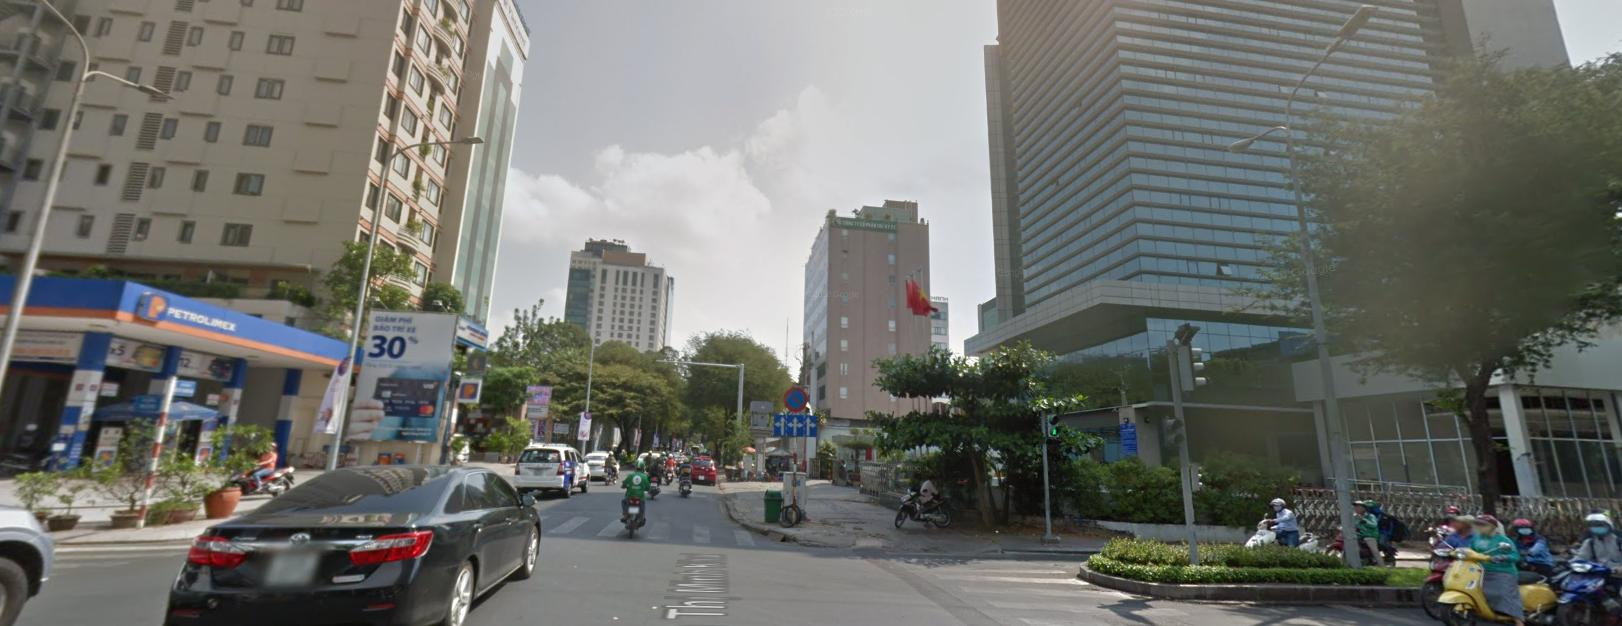Cam dung va do: (783, 383, 806, 411)
